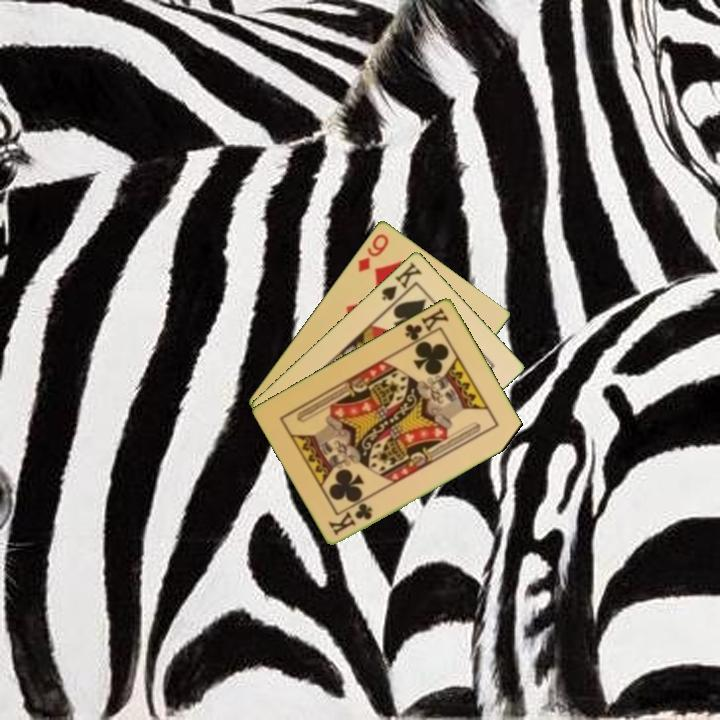9d: (354, 230, 392, 275)
Kc: (401, 303, 452, 347), (325, 499, 376, 538)
Ks: (378, 258, 425, 309)
